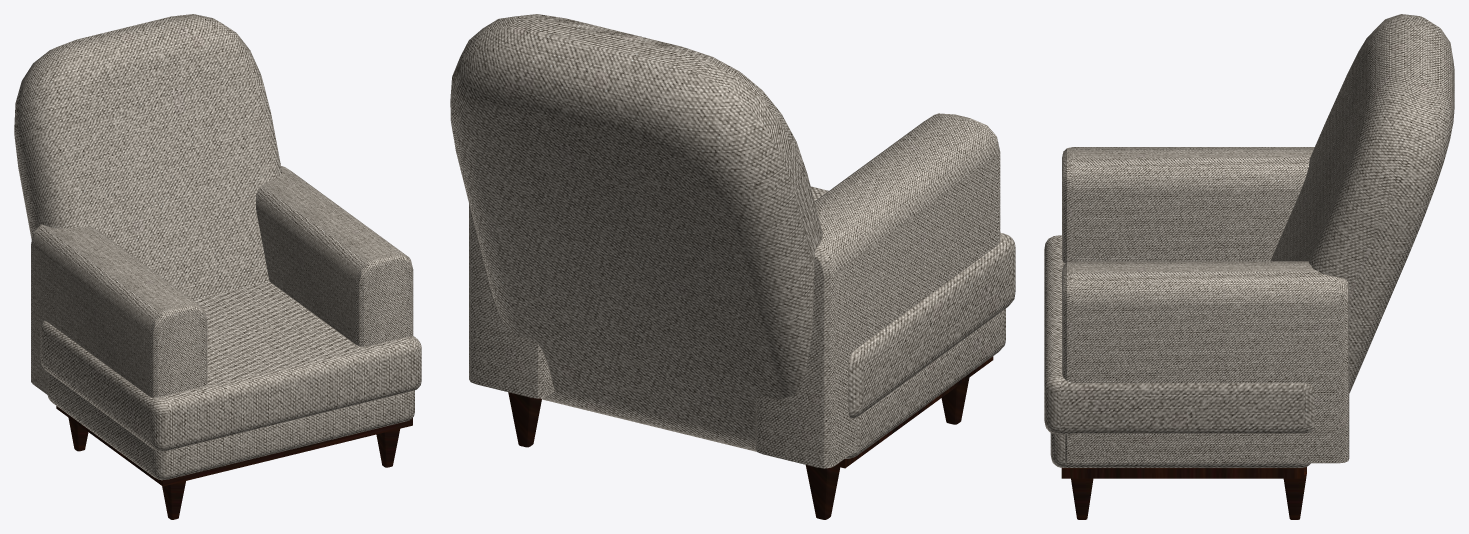
The model's file is sillon_fbx.FBX.
3 views of the same model, side by side, from view 1: azimuth 30°, elevation 25°; view 2: azimuth 150°, elevation 25°; view 3: azimuth 270°, elevation 25° (orthographic). The views are drawn at different scales.
Visible parts, largest first — view 1: Object002; view 2: Object002; view 3: Object002.
Part boxes in pixels (<box>): Object002: <box>14,14,421,519</box>; Object002: <box>450,14,1015,519</box>; Object002: <box>1044,14,1454,519</box>.
Size of the model in its own units: 25.3 by 32.08 by 29.46.
